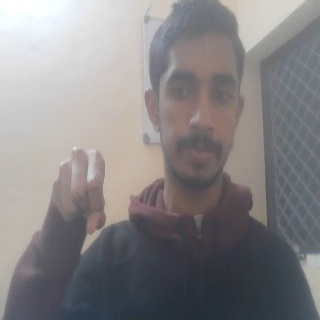Face: (146, 1, 245, 193)
Yes: (48, 148, 109, 237)
